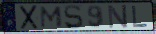9: (87, 5, 105, 29)
L: (131, 5, 149, 28)
M: (40, 5, 63, 29)
N: (107, 4, 130, 30)
S: (63, 4, 85, 31)
X: (19, 4, 40, 31)
